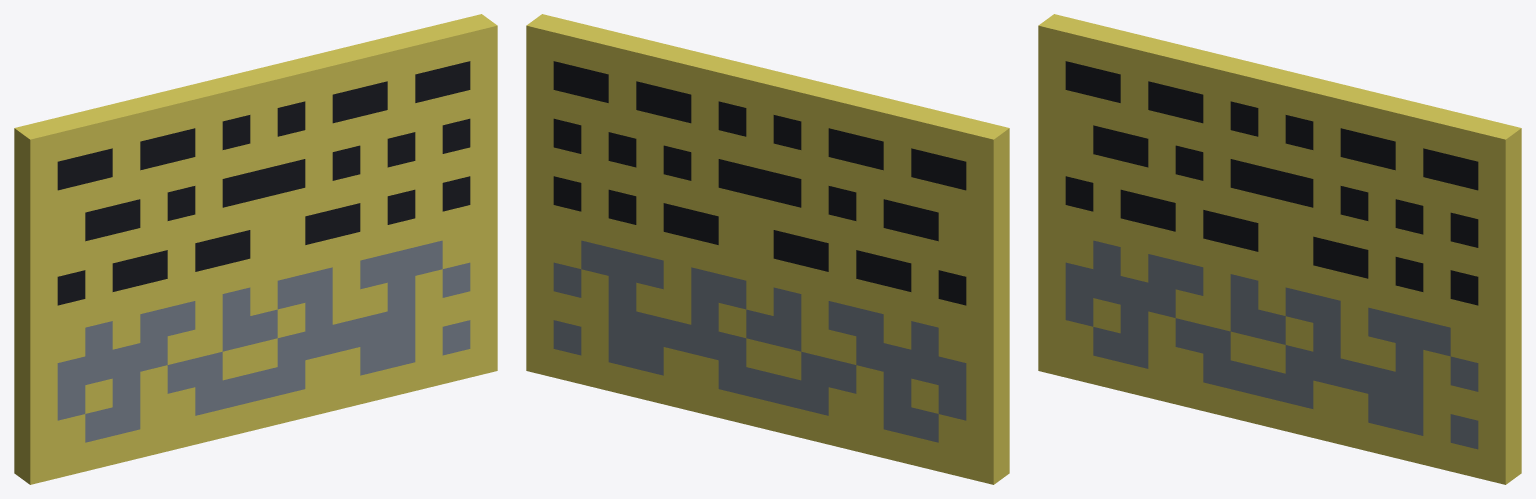
File: poster_1.glb
3 views of the same model, side by side, from view 1: azimuth 30°, elevation 25°; view 2: azimuth 150°, elevation 25°; view 3: azimuth 330°, elevation 25° (orthographic).
Parts seen in each view (by area): view 1: model; view 2: model; view 3: model.
Part boxes in pixels (<box>): model: <box>14,14,497,484</box>; model: <box>526,14,1009,484</box>; model: <box>1038,14,1521,484</box>.
Bounding box in the file's own units: 1.7 × 1.2 × 0.1.
